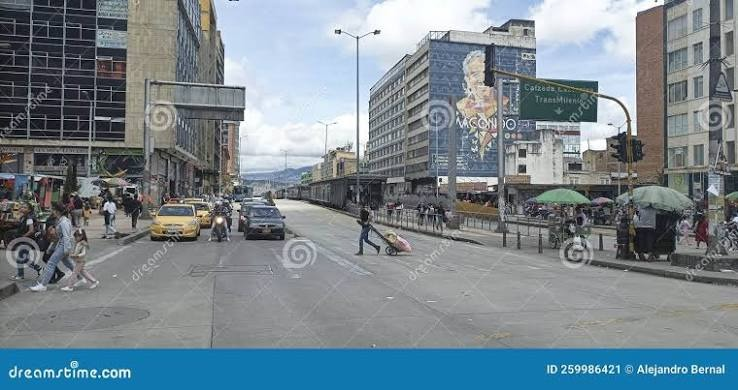car: (151, 203, 208, 241), (240, 202, 287, 241)
